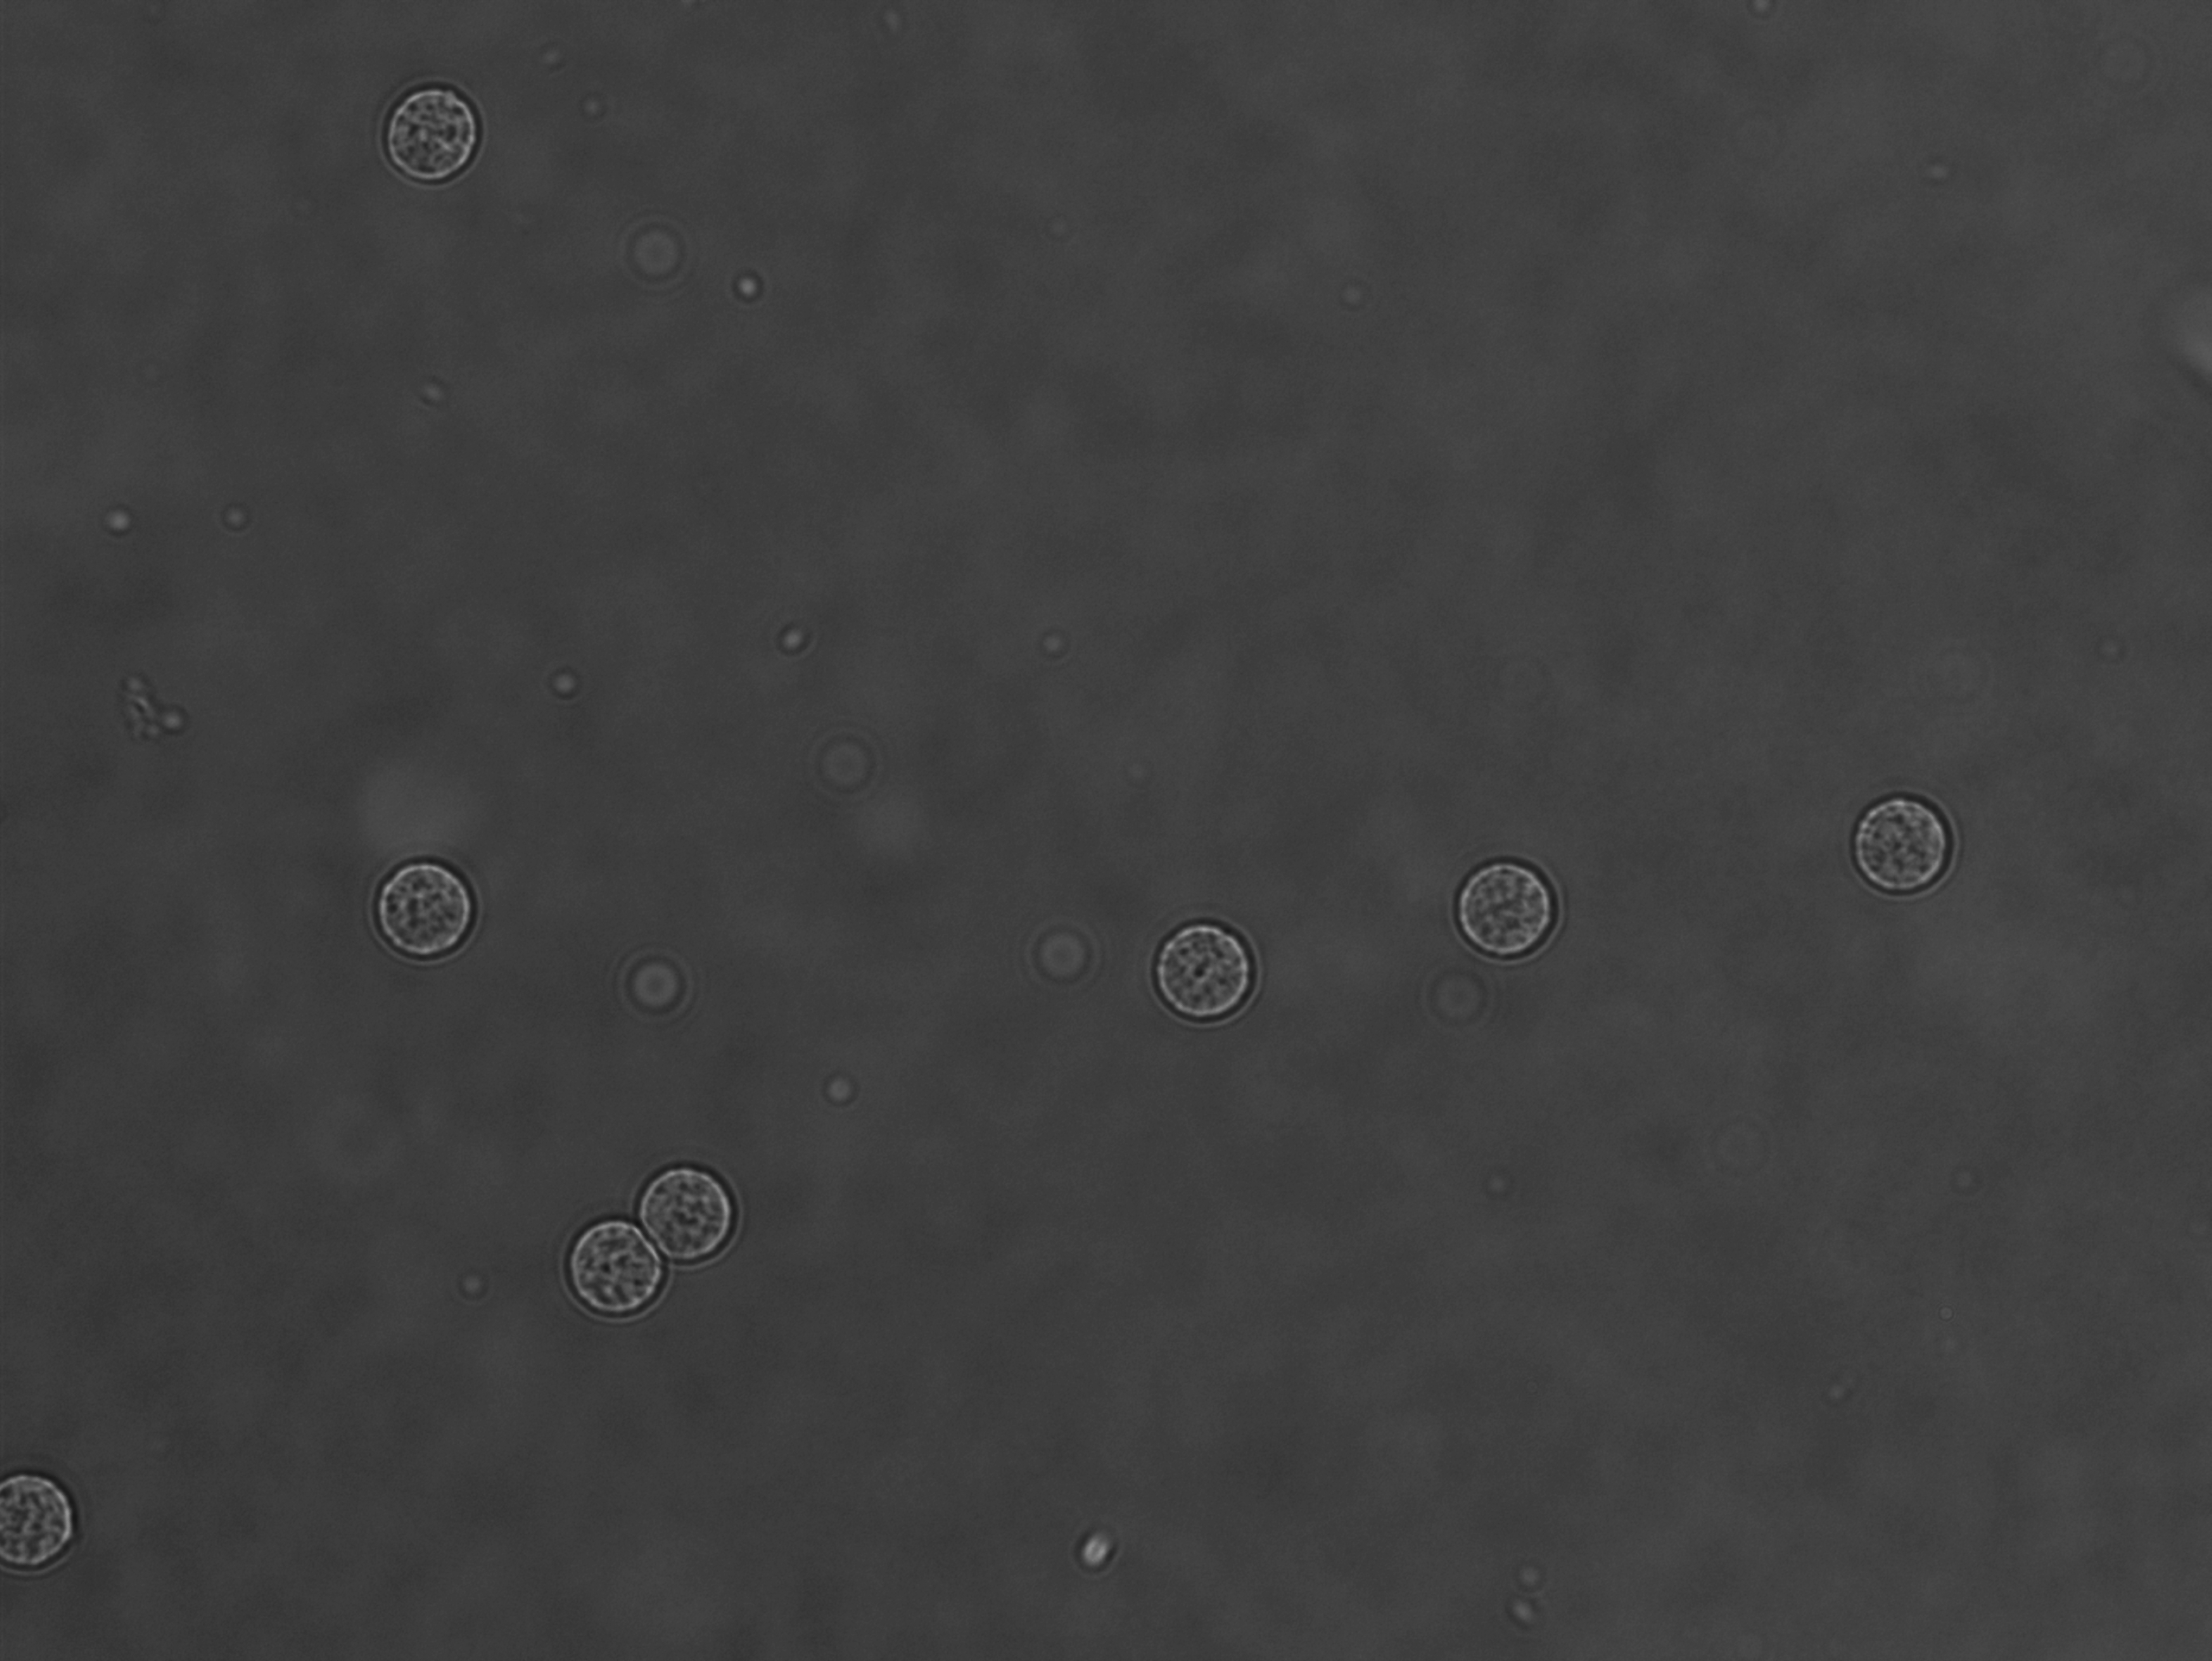depth:0: (1439, 839, 1589, 1005), (340, 839, 504, 989), (1823, 764, 1970, 932), (1134, 907, 1291, 1049), (621, 1145, 776, 1272), (553, 1197, 680, 1329), (368, 73, 502, 197)
